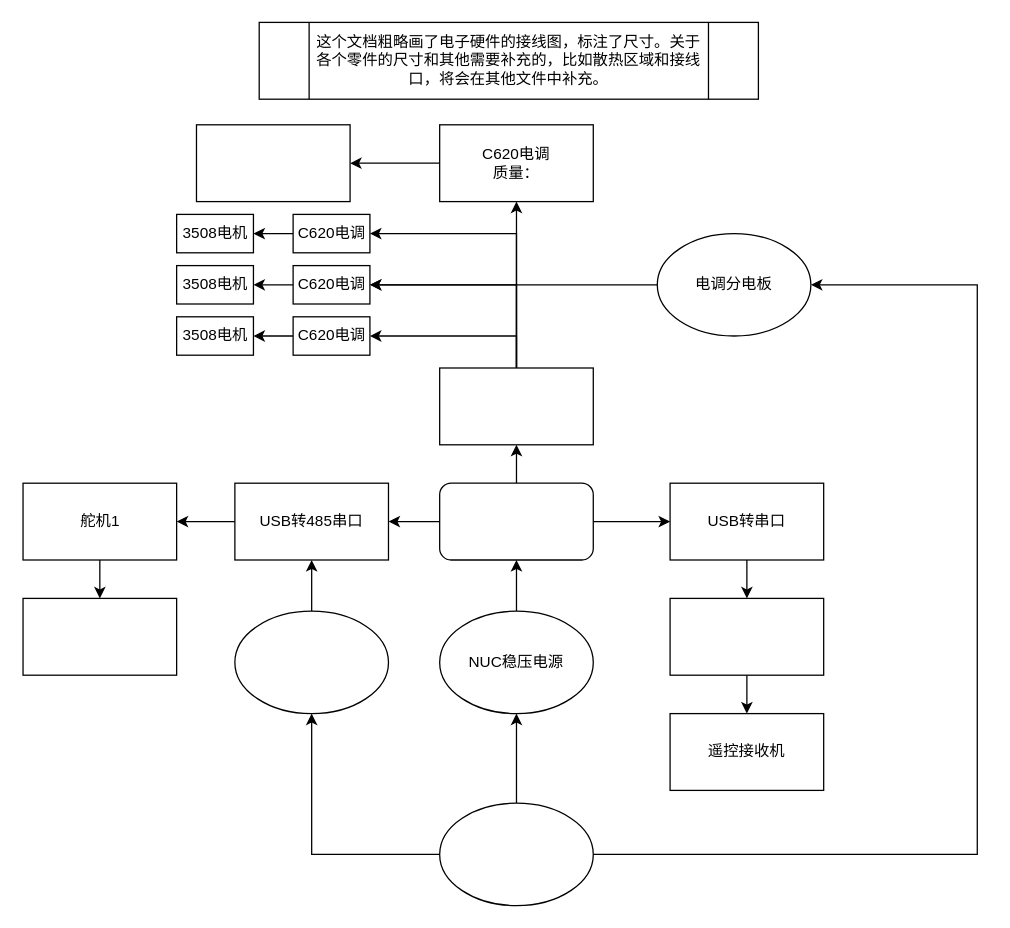
Image size: 1010x928. Some labels were removed from this diagram. Here are the shapes that lost their labels. From the top down, the box of each, then its label:
(195, 124, 350, 202): 3508电机 质量：
(438, 367, 593, 445): USB转CAN
(438, 482, 593, 560): NUC电脑
(22, 597, 177, 675): 舵机2
(669, 597, 824, 675): 单片机
(234, 610, 388, 714): 舵机稳压电源
(438, 802, 593, 906): 6s 5300mah电池
